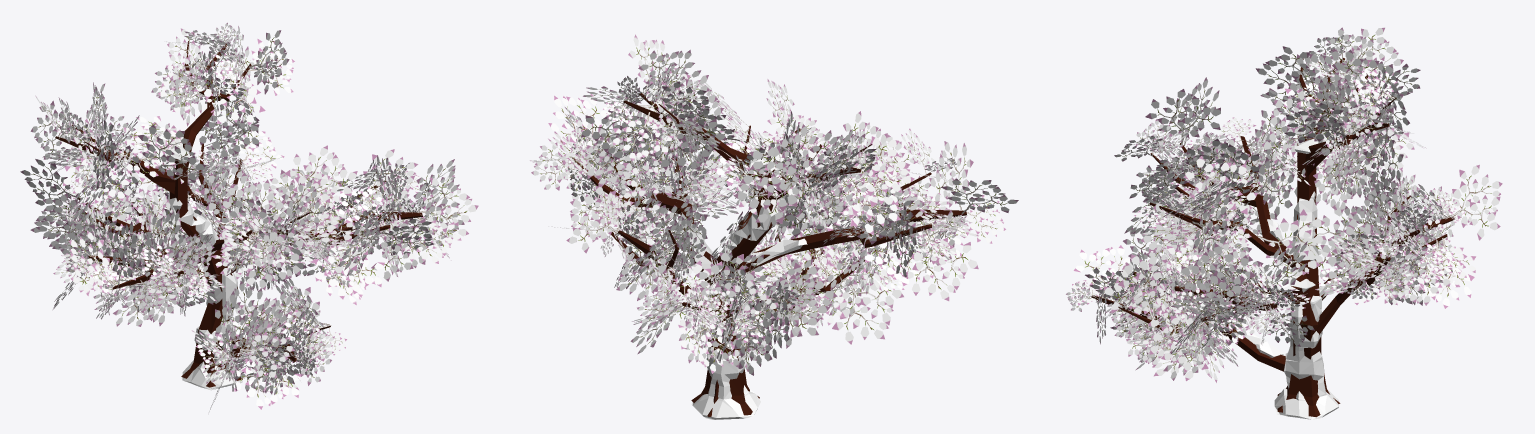
The model's file is WizardTreeWSnow_01.obj.
3 views of the same model, side by side, from view 1: azimuth 30°, elevation 25°; view 2: azimuth 150°, elevation 25°; view 3: azimuth 270°, elevation 25° (orthographic). The views are drawn at different scales.
Parts seen in each view (by area): view 1: WizardWSnow_tree_01_Circle; view 2: WizardWSnow_tree_01_Circle; view 3: WizardWSnow_tree_01_Circle.
Boxes of the visible parts, x1=… form: WizardWSnow_tree_01_Circle: x1=20, y1=22, x2=478, y2=411; WizardWSnow_tree_01_Circle: x1=530, y1=34, x2=1018, y2=419; WizardWSnow_tree_01_Circle: x1=1066, y1=27, x2=1502, y2=419.
Size of the model in its own units: 24.05 by 18.24 by 21.09.
